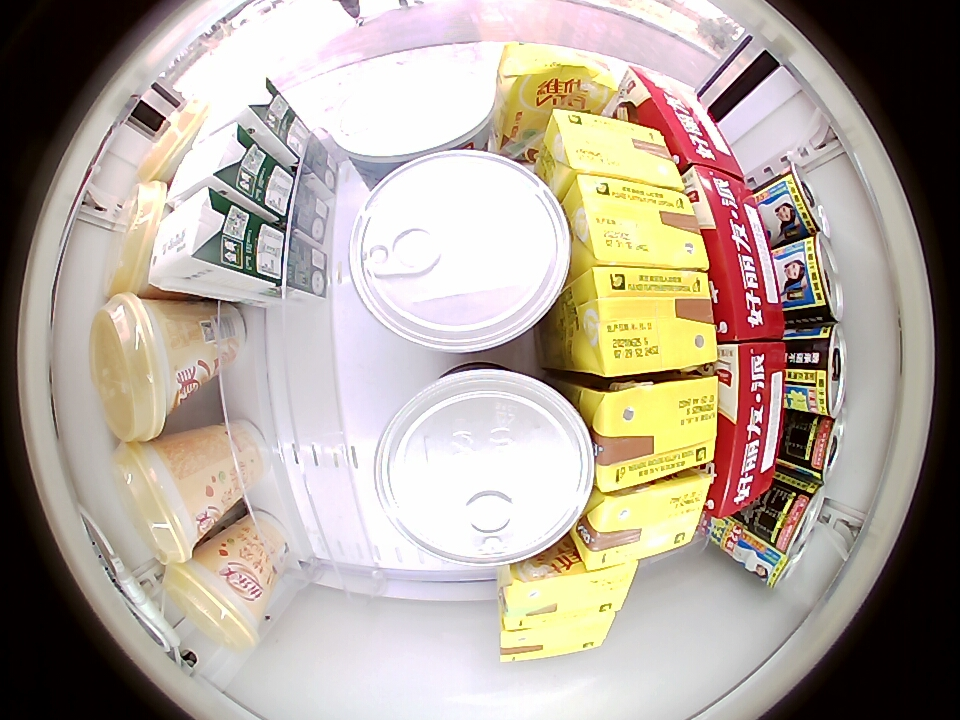buding: (495, 42, 622, 115)
haitai: (347, 149, 572, 356), (374, 361, 595, 567), (330, 52, 502, 169)
haoliyou: (684, 165, 786, 342), (707, 341, 788, 517), (633, 66, 744, 181)
jindian: (148, 186, 241, 296), (168, 120, 255, 206), (201, 72, 275, 140)
weitaningmeng: (571, 267, 719, 376), (587, 374, 719, 493), (568, 175, 709, 271), (576, 472, 713, 570), (547, 108, 688, 190), (498, 556, 637, 626), (499, 612, 616, 663)
yezhi: (790, 234, 845, 324), (795, 322, 846, 418), (768, 481, 826, 553), (775, 166, 830, 241), (797, 414, 844, 485), (761, 539, 807, 589)
youlemei: (91, 293, 186, 442), (113, 439, 205, 565), (164, 552, 264, 652), (107, 180, 168, 296), (139, 95, 210, 184)
